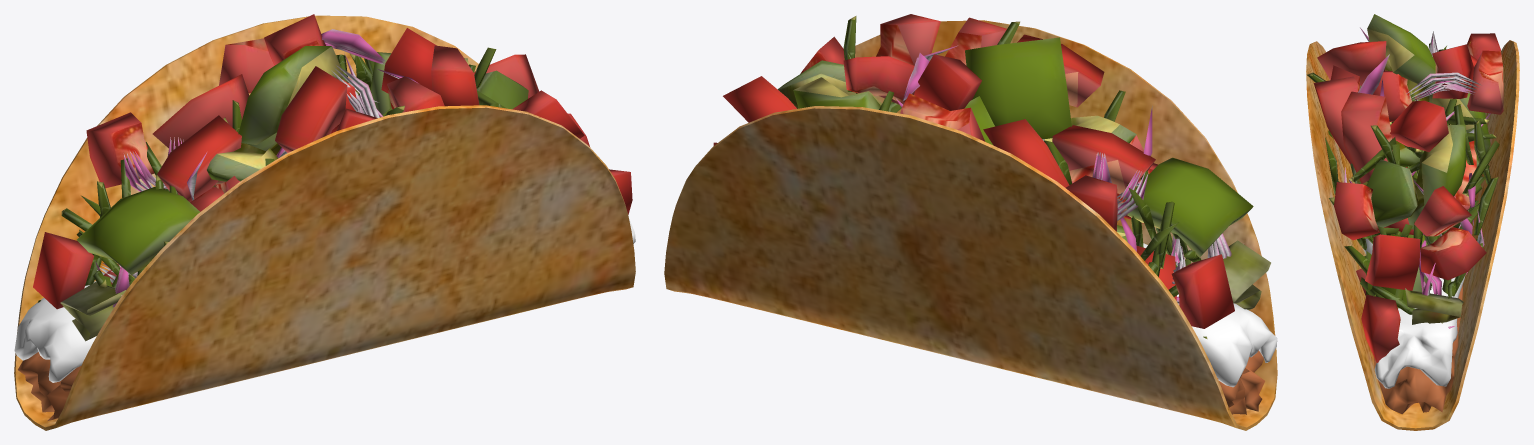
The model's file is taco.glb.
3 views of the same model, side by side, from view 1: azimuth 30°, elevation 25°; view 2: azimuth 150°, elevation 25°; view 3: azimuth 270°, elevation 25° (orthographic). The views are drawn at different scales.
Visible parts, largest first — view 1: taco-001, veggies.001, mayo, chicken; view 2: taco-001, veggies.001, mayo, chicken; view 3: veggies.001, taco-001, mayo, chicken.
Boxes of the visible parts, x1,y1,x2,y2 form: taco-001: (14,15,635,430); veggies.001: (33,14,632,341); mayo: (14,219,635,382); chicken: (18,352,80,421); taco-001: (664,20,1277,430); veggies.001: (713,14,1270,338); mayo: (1143,243,1277,387); chicken: (1217,350,1264,414); veggies.001: (1307,14,1503,362); taco-001: (1306,40,1519,430); mayo: (1363,166,1464,388); chicken: (1374,283,1463,414).
Size of the model in its own units: 0.276 by 0.1439 by 0.103.
Materials: 1 (1 with a texture image).
